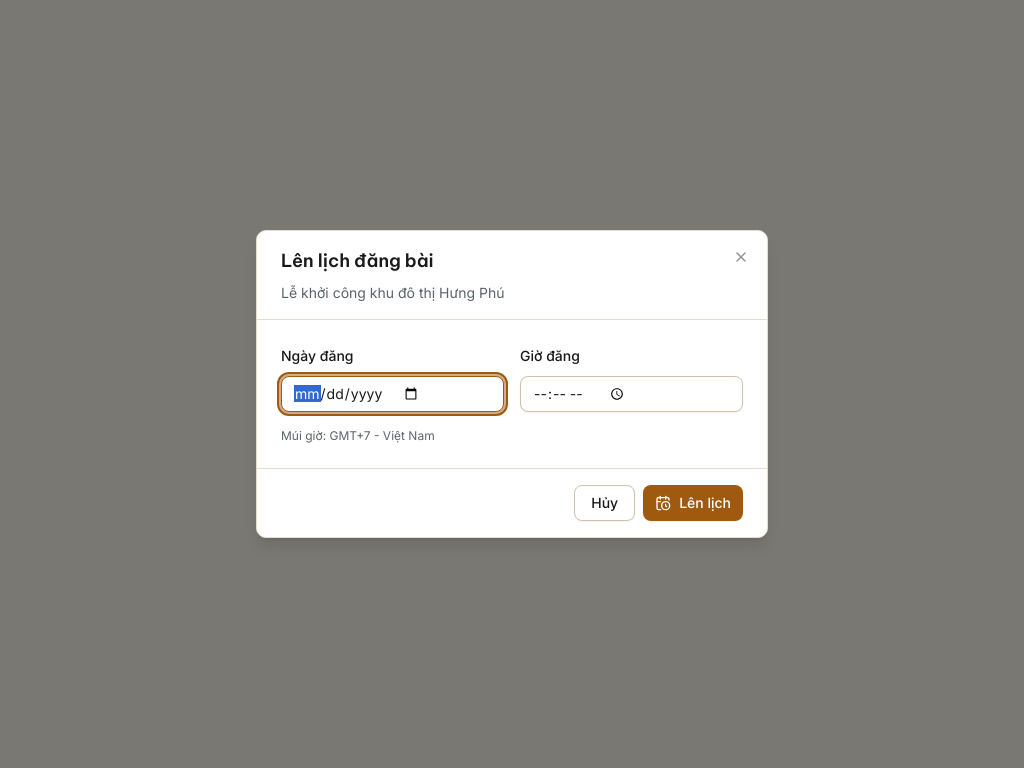
Test: SchedulePublishDialog — nhập và gửi › thiếu giờ: báo lỗi ở ô giờ
Check: the dialog is shown, box [256,230,768,538]
In the date field labelled "Ngày đăng": (392, 394) [281,376,504,412], type "2026-08-20"
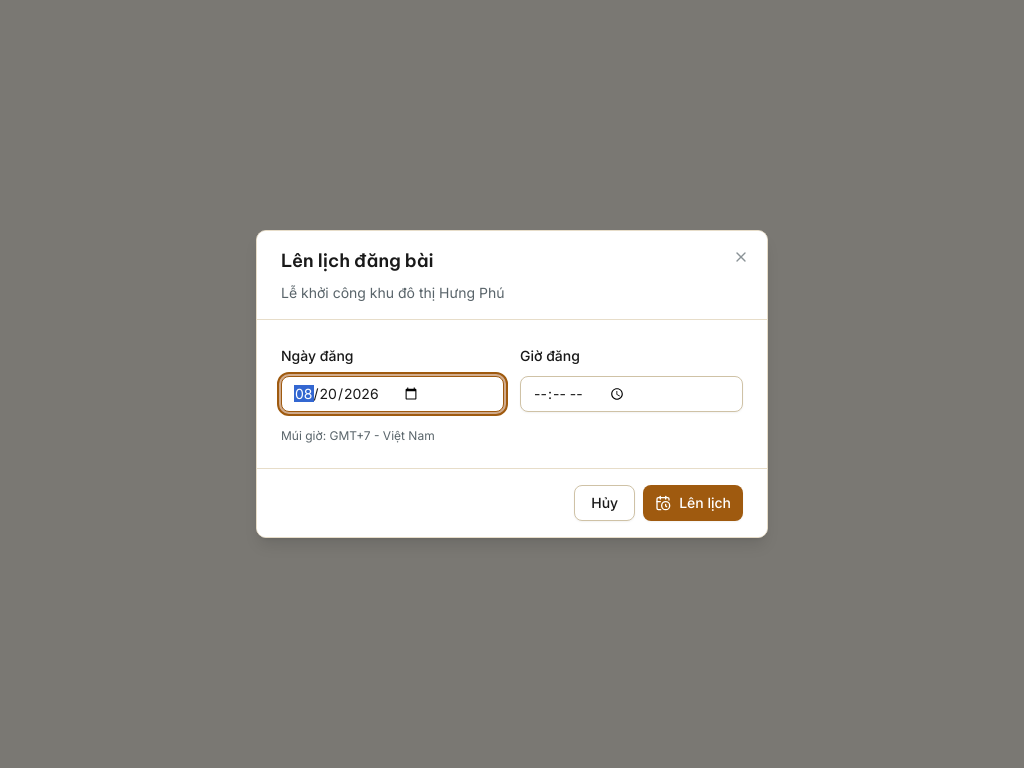
Click the button "Lên lịch": (693, 503) [643,485,743,521]
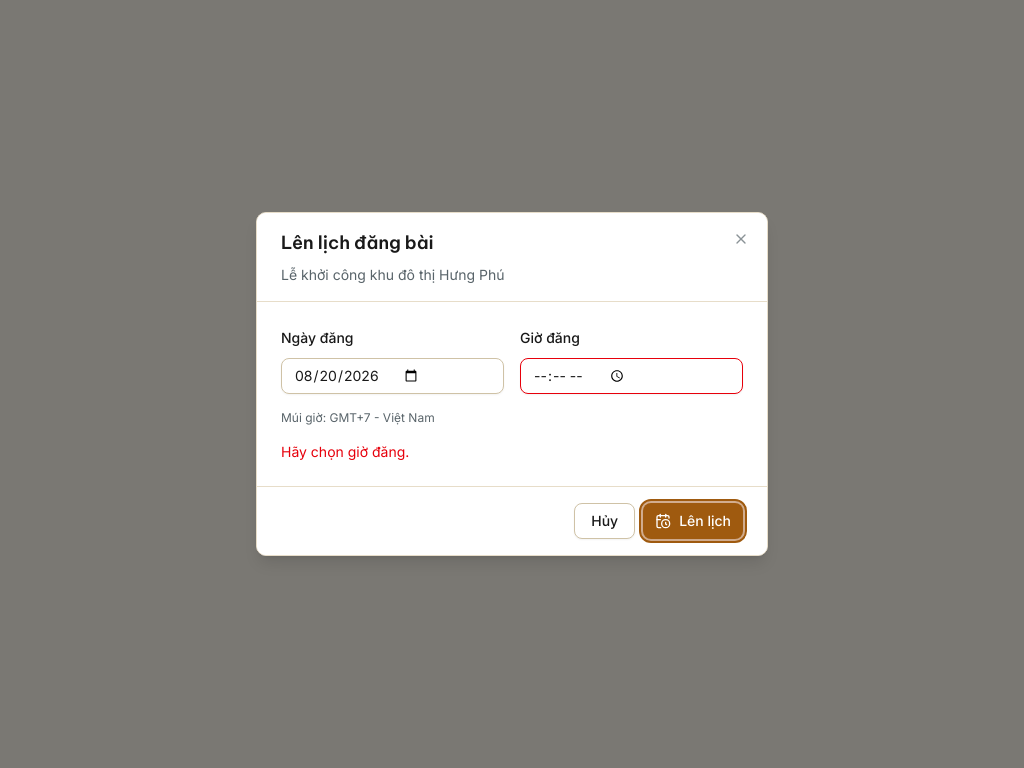
Check: the message reads "Hãy chọn giờ đăng.", box [281,443,409,460]
